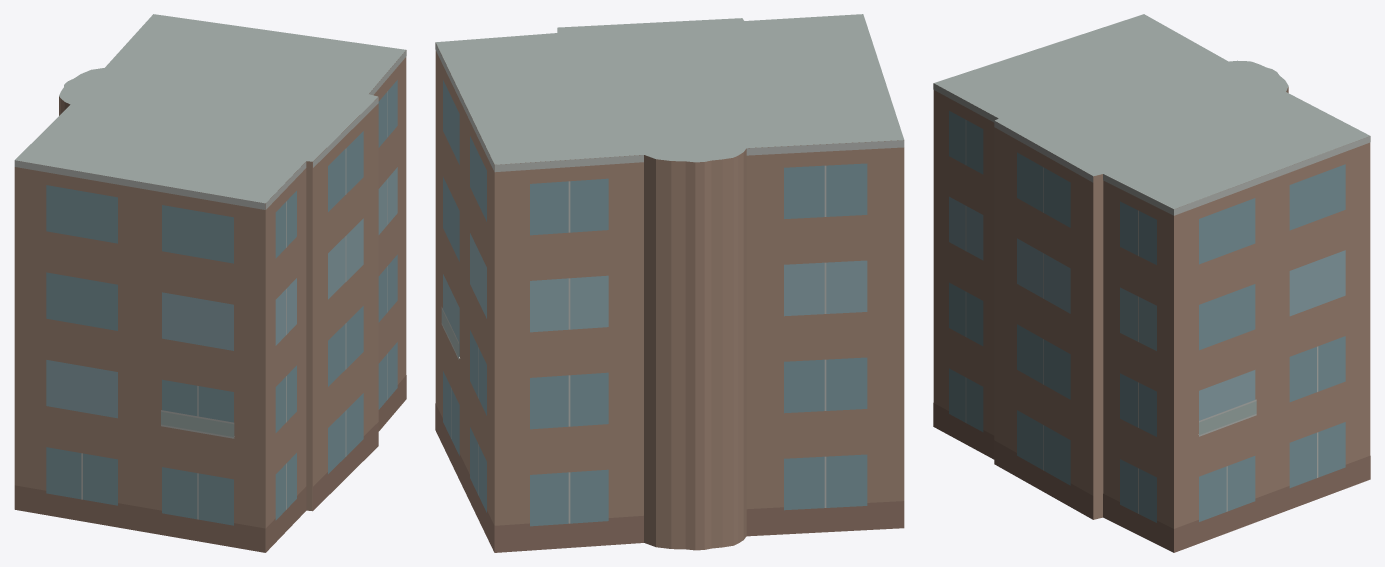
Rendered from survey-upis-32745445.glb.
3 views of the same model, side by side, from view 1: azimuth 30°, elevation 25°; view 2: azimuth 150°, elevation 25°; view 3: azimuth 270°, elevation 25° (orthographic). The views are drawn at different scales.
Visible parts, largest first — view 1: survey-upis-32745445.tmp; view 2: survey-upis-32745445.tmp; view 3: survey-upis-32745445.tmp.
Part boxes in pixels (left/top/right/bottom): survey-upis-32745445.tmp: left=14, top=14, right=406, bottom=552; survey-upis-32745445.tmp: left=435, top=14, right=904, bottom=552; survey-upis-32745445.tmp: left=933, top=14, right=1370, bottom=552.
Bounding box in the file's own units: 15.61 × 12.8 × 14.76.
